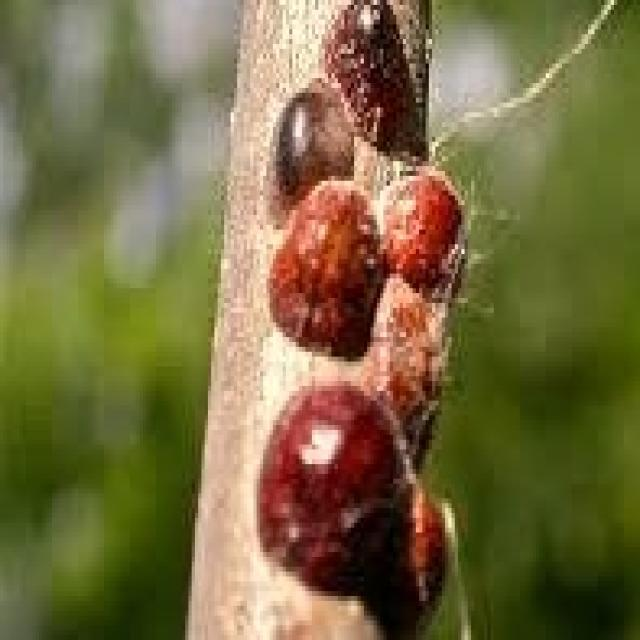BlackScale: (273, 166, 461, 465), (260, 367, 442, 636), (272, 0, 426, 217)
